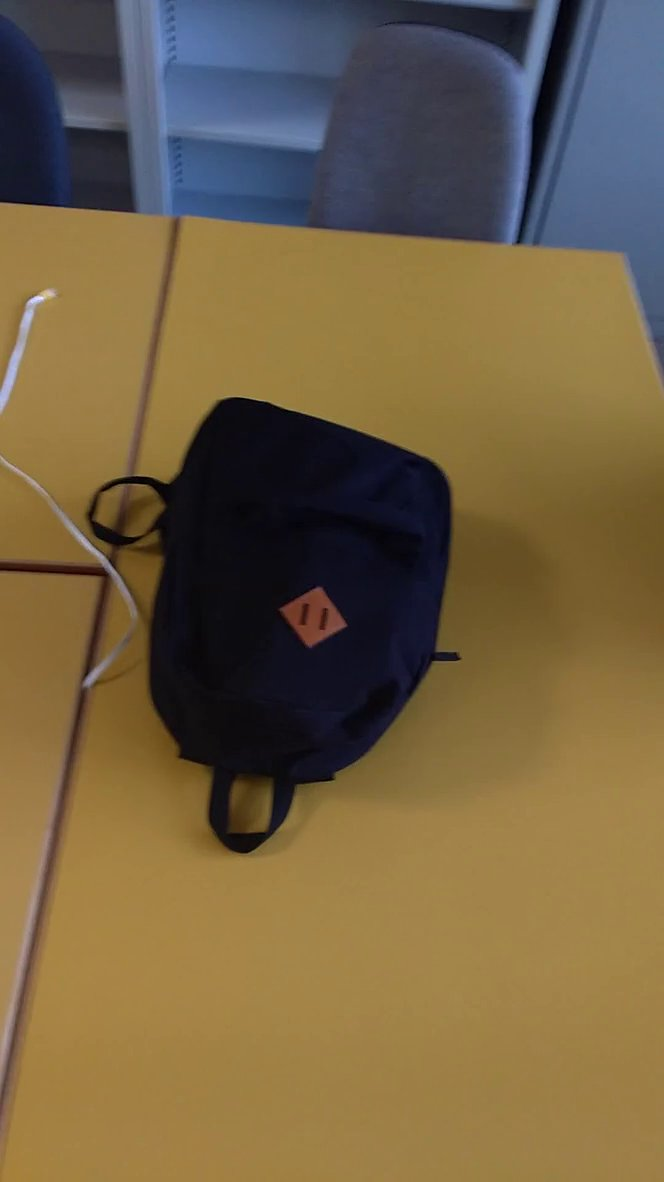bag: (75, 395, 490, 864)
chair: (302, 8, 562, 311)
